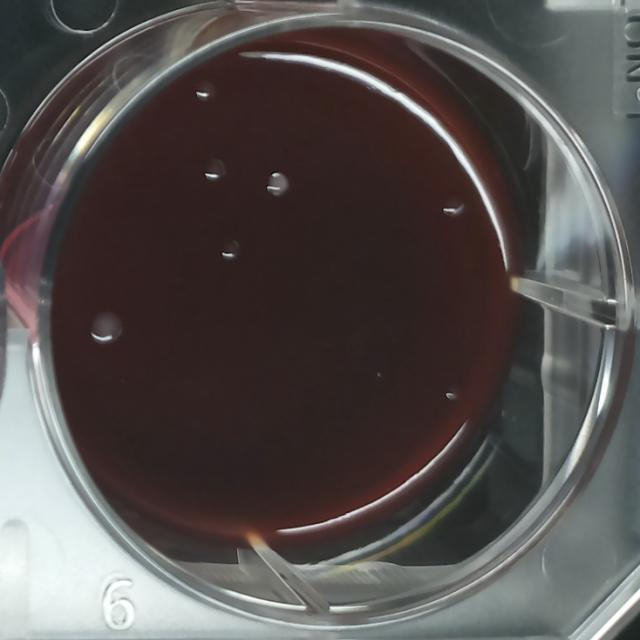Alteromonas: (437, 189, 466, 220), (201, 154, 228, 186), (193, 76, 219, 106), (217, 237, 244, 264)
